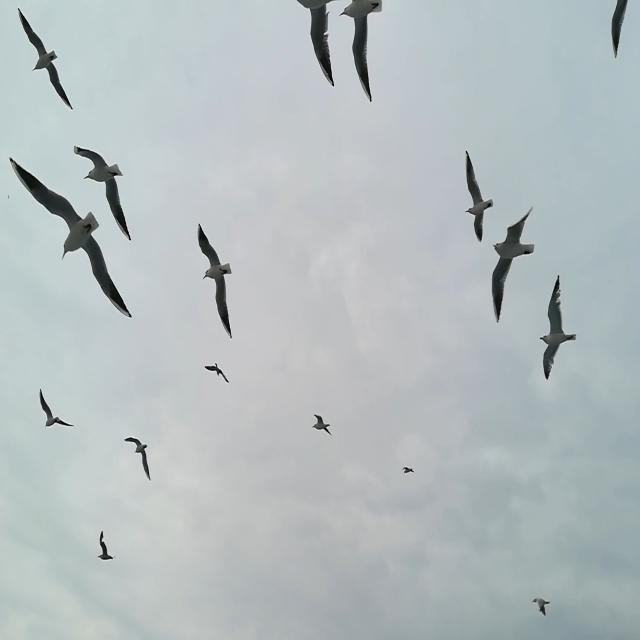bird: (9, 156, 133, 320), (16, 7, 74, 112), (73, 144, 132, 242), (491, 205, 535, 323), (338, 1, 382, 102), (539, 274, 577, 381), (198, 222, 232, 340), (297, 0, 338, 87), (464, 151, 494, 244), (38, 389, 75, 429), (124, 437, 152, 480), (610, 0, 629, 58), (95, 529, 116, 561), (204, 362, 230, 384), (312, 413, 332, 436), (531, 596, 551, 616), (403, 466, 414, 475), (7, 195, 10, 200)
